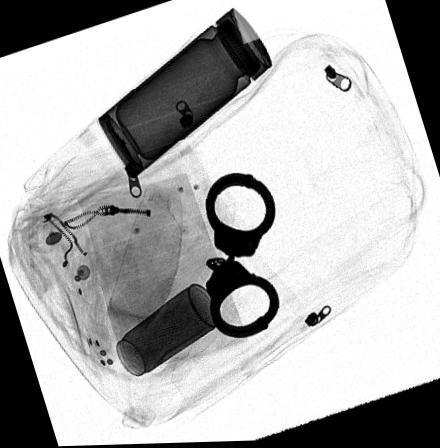HandCuffs: (205, 173, 279, 340)
